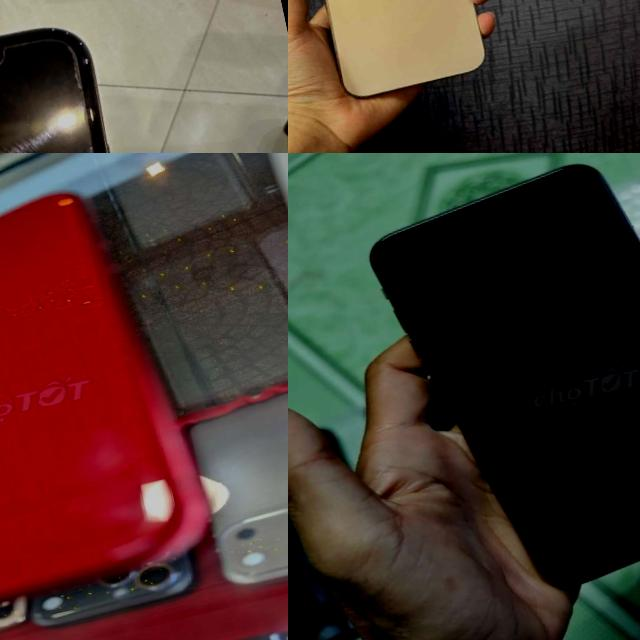gen_11: (0, 170, 215, 640)
gen_12_13: (288, 0, 500, 109)
gen_x_xs: (319, 153, 640, 621), (0, 1, 211, 153)
